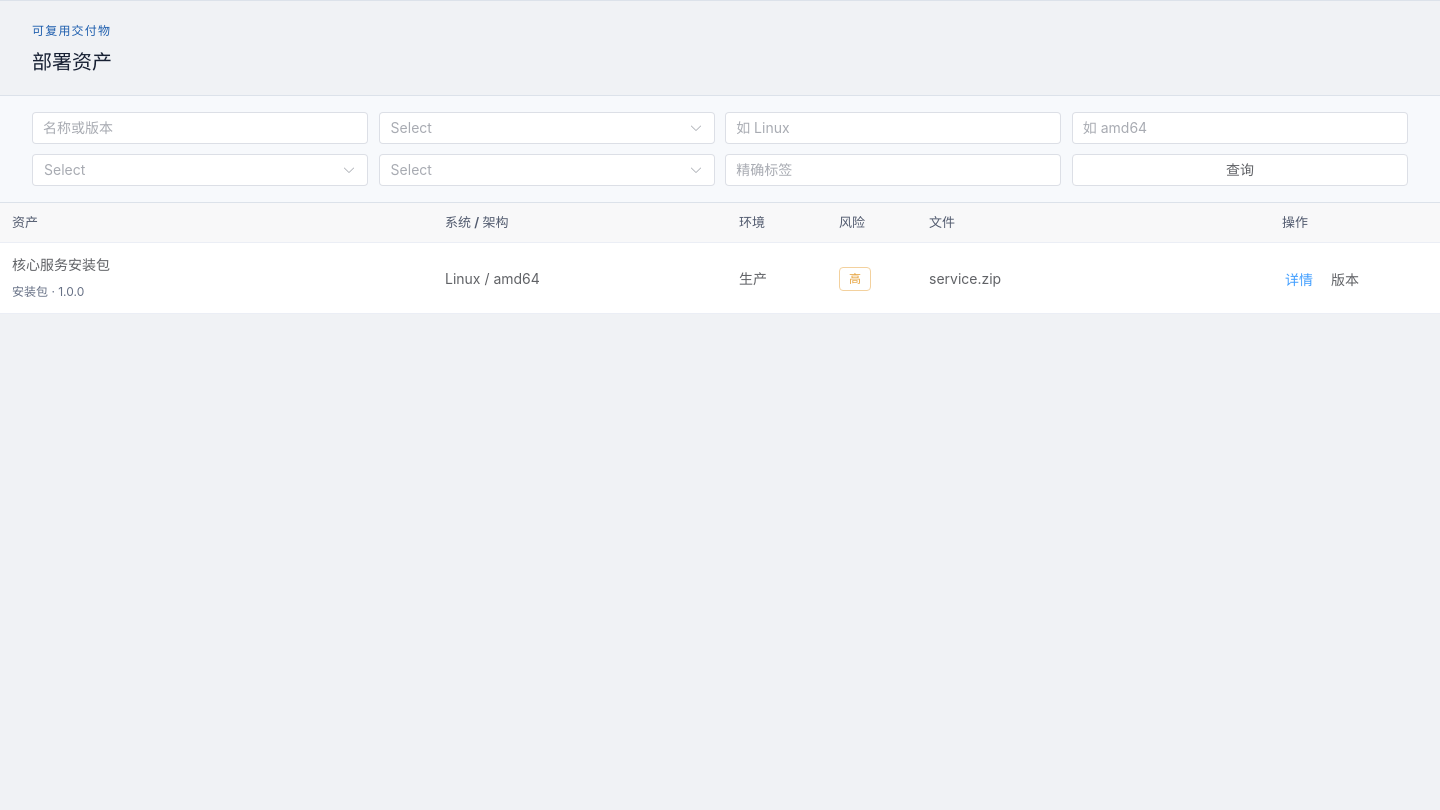
Test: DeploymentAssetPanel › hides the create action for read-only users and loads version history
The width and height of the screenshot is (1440, 810).
Click the button "版本".
click(1345, 280)  # box 1328,270 -> 1362,290
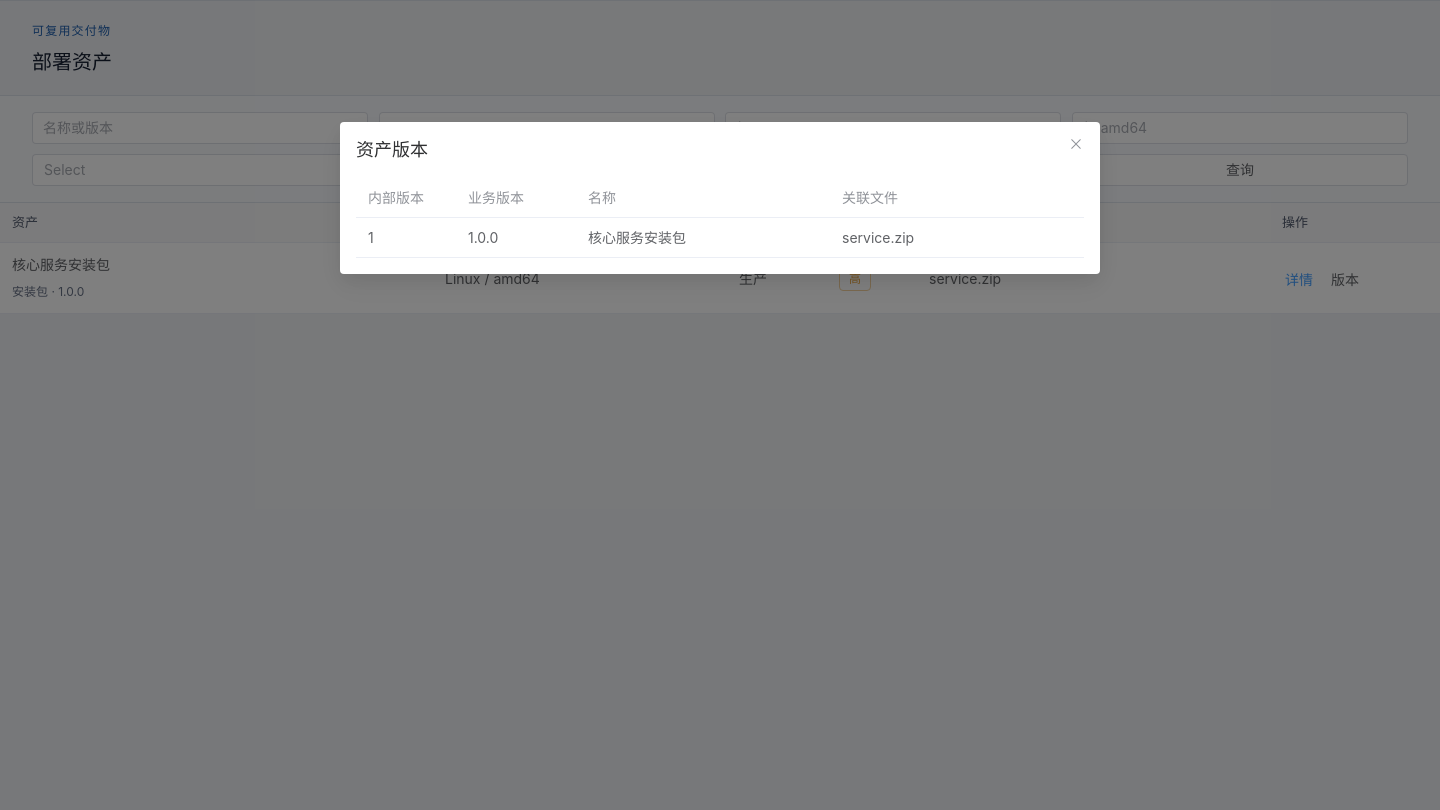
Now the text "资产版本" is shown, box 356,138 -> 428,160
